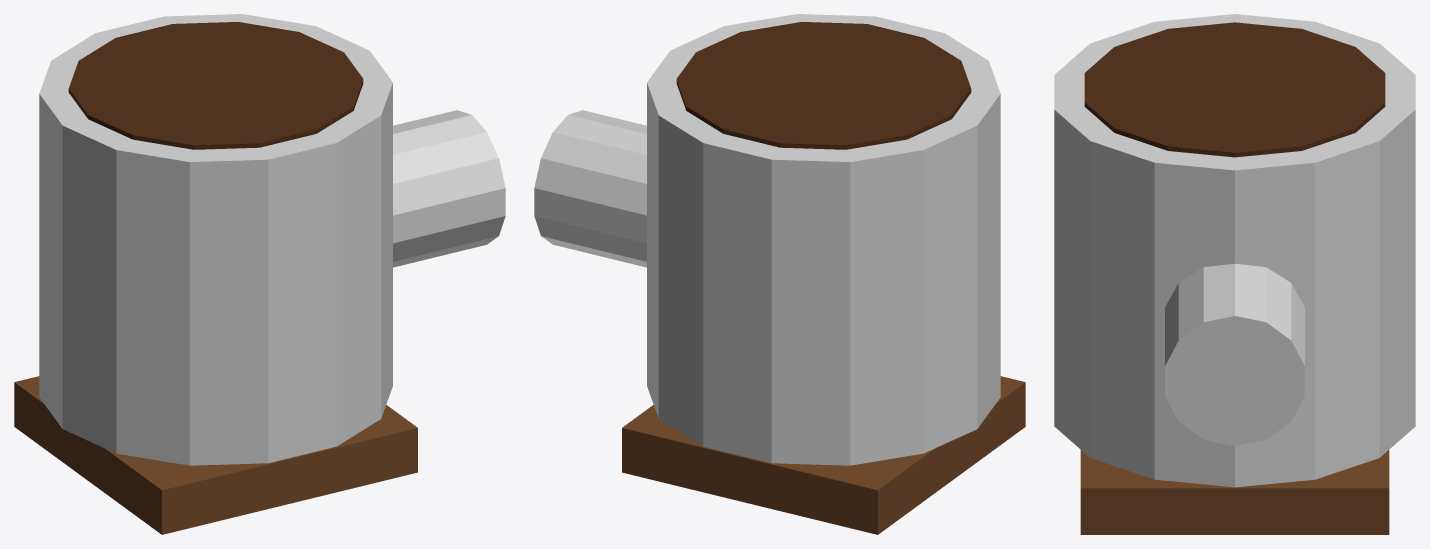
File: Item_Coffee.obj
3 views of the same model, side by side, from view 1: azimuth 30°, elevation 25°; view 2: azimuth 150°, elevation 25°; view 3: azimuth 270°, elevation 25° (orthographic). The views are drawn at different scales.
Parts seen in each view (by area): view 1: Item_Coffee; view 2: Item_Coffee; view 3: Item_Coffee.
Part boxes in pixels (box(x1,y1,x2,y2)): Item_Coffee: box(14, 14, 505, 534); Item_Coffee: box(534, 14, 1025, 534); Item_Coffee: box(1054, 14, 1415, 534).
Size of the model in its own units: 0.48 by 0.41 by 0.351.
